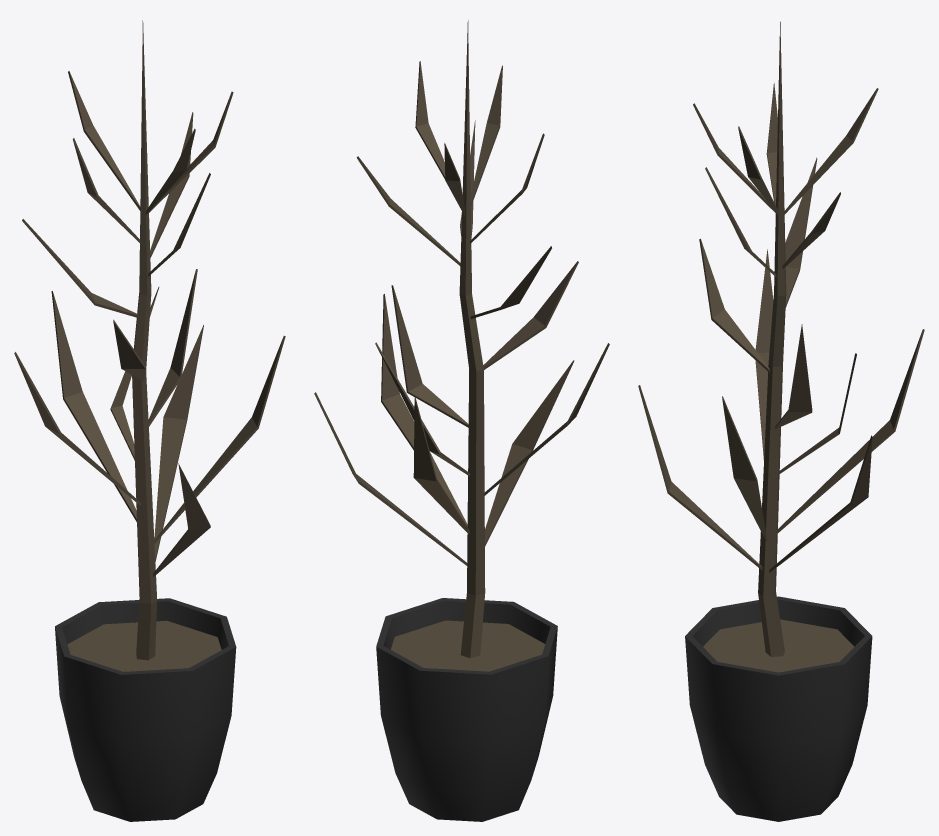
Rendered from Houseplant_8.glb.
The picture shows the model from 3 angles, left to right: view 1: azimuth 30°, elevation 25°; view 2: azimuth 150°, elevation 25°; view 3: azimuth 270°, elevation 25°; orthographic projection.
Parts seen in each view (by area): view 1: Houseplant_8; view 2: Houseplant_8; view 3: Houseplant_8.
Part boxes in pixels (x1,y1,x2,y2): Houseplant_8: (14, 20, 285, 821); Houseplant_8: (314, 20, 609, 821); Houseplant_8: (638, 21, 924, 821).
Bounding box in the file's own units: 0.2529 × 0.7612 × 0.2529.
3 materials, 3 textured.
